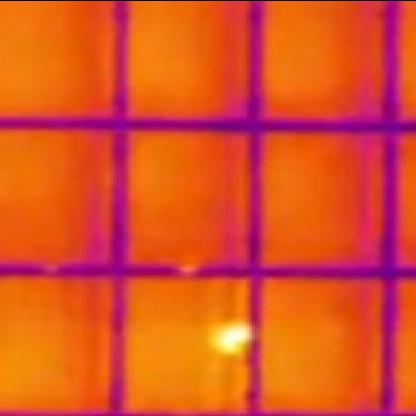Defects: (216, 322, 249, 352)
